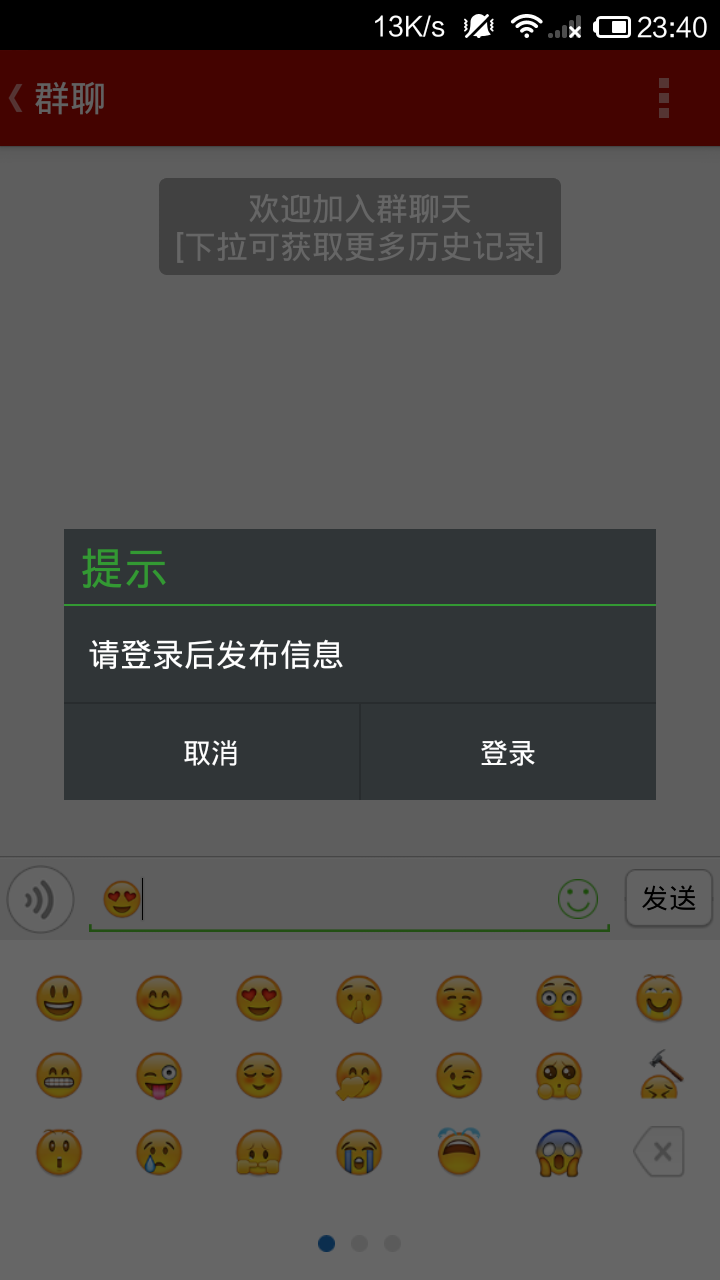alert: (42, 517, 676, 812), (136, 166, 575, 284)
